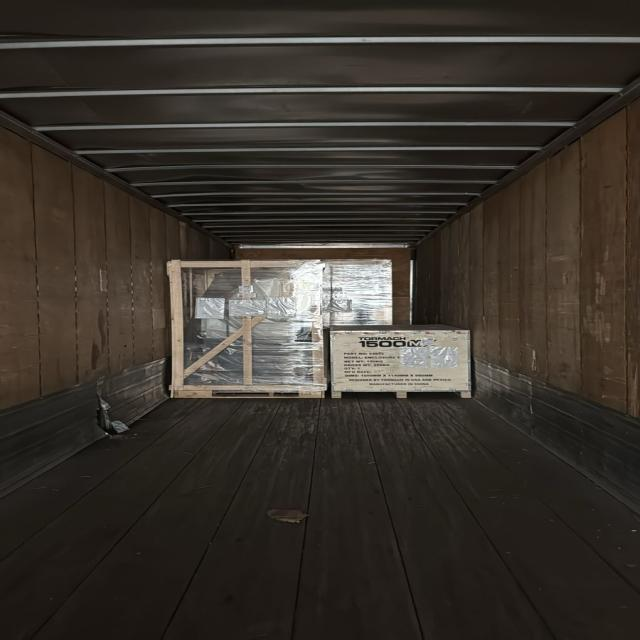15lx: (167, 260, 326, 397)
encl1500: (329, 325, 470, 397)
